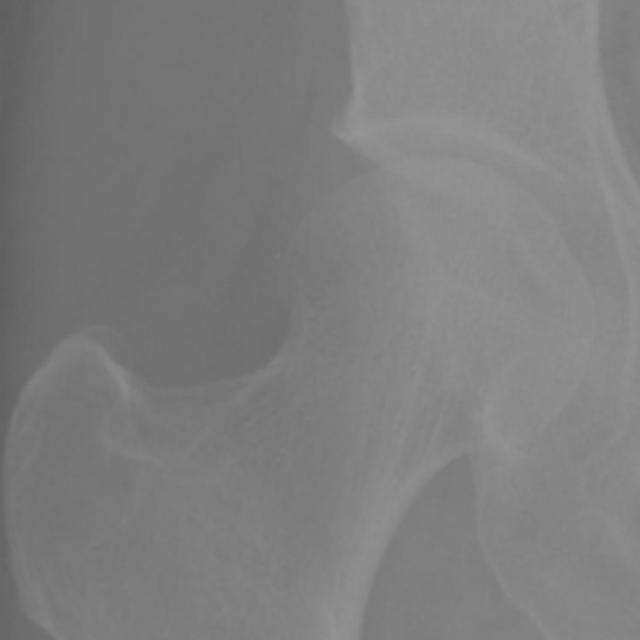Fitted_femural_head: (317, 159, 432, 317)
